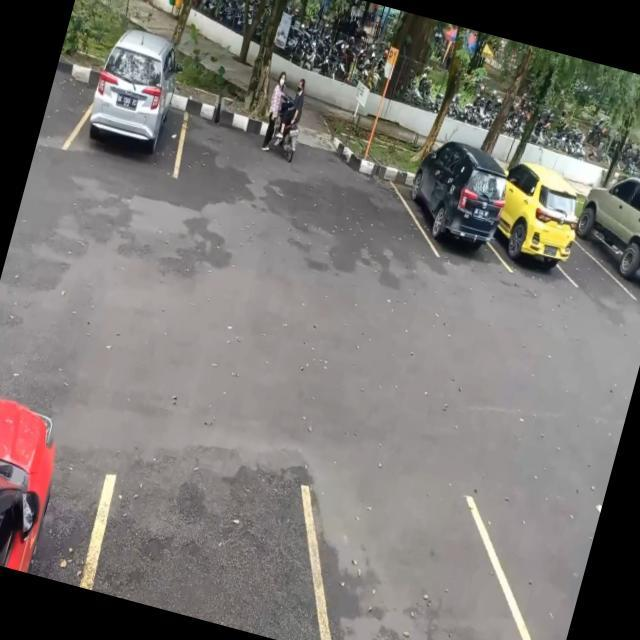occupied: (70, 42, 202, 179), (396, 147, 514, 267), (489, 168, 588, 286)
